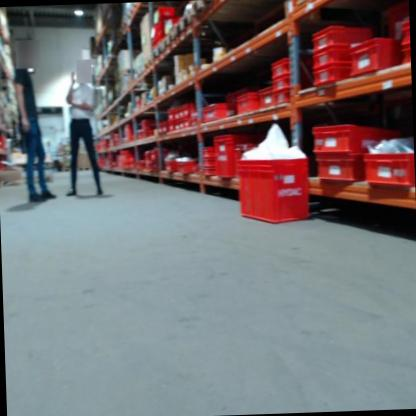pallet: (0, 173, 55, 188), (175, 12, 191, 37), (191, 0, 213, 17), (163, 31, 176, 49), (143, 55, 154, 70), (76, 167, 93, 171)
small_load_carrier: (233, 150, 310, 224), (311, 120, 381, 158), (348, 40, 404, 78), (363, 153, 415, 191), (312, 21, 375, 49), (315, 153, 362, 186), (313, 63, 361, 90), (213, 134, 240, 182), (311, 46, 361, 68), (152, 4, 174, 47), (235, 90, 262, 118), (267, 56, 304, 76), (201, 102, 230, 123), (270, 76, 304, 91), (260, 84, 278, 111), (271, 90, 295, 106), (175, 159, 199, 173), (399, 19, 409, 44), (139, 118, 157, 131), (183, 104, 197, 117), (201, 147, 217, 157), (402, 46, 410, 65), (164, 161, 176, 173), (202, 166, 216, 176), (202, 157, 215, 166), (152, 152, 165, 161), (173, 109, 181, 120), (163, 120, 169, 134), (151, 163, 160, 172), (179, 108, 186, 119), (178, 122, 187, 130), (169, 122, 176, 132), (168, 110, 174, 121), (144, 153, 152, 161), (144, 161, 151, 170), (156, 123, 161, 134), (186, 120, 192, 129), (174, 124, 181, 131)
